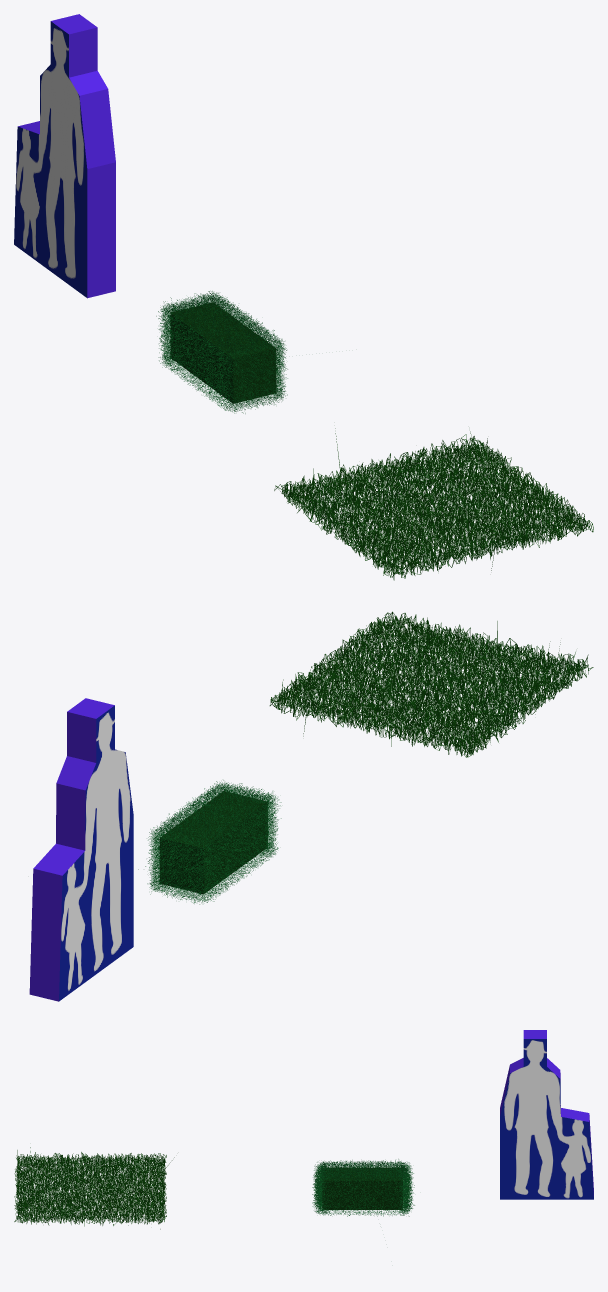
The model's file is その他.fbx.
The picture shows the model from 3 angles, top to bottom: view 1: azimuth 30°, elevation 25°; view 2: azimuth 150°, elevation 25°; view 3: azimuth 270°, elevation 25°; orthographic projection. The views are drawn at different scales.
Visible parts, largest first — view 1: Plane, ill-tsi_325-3, Cube, Cube.001; view 2: Plane, ill-tsi_325-3, Cube, Cube.001; view 3: ill-tsi_325-3, Plane, Cube, Cube.001.
Part boxes in pixels (<box>): Plane: <box>274,428,593,580</box>; ill-tsi_325-3: <box>14,14,115,298</box>; Cube: <box>156,291,287,413</box>; Cube.001: <box>170,302,276,403</box>; Plane: <box>269,611,593,757</box>; ill-tsi_325-3: <box>29,698,133,1001</box>; Cube: <box>138,780,281,904</box>; Cube.001: <box>159,791,267,894</box>; ill-tsi_325-3: <box>500,1030,593,1199</box>; Plane: <box>14,1147,174,1229</box>; Cube: <box>312,1159,414,1216</box>; Cube.001: <box>322,1167,402,1209</box>.
Size of the model in its own units: 114 by 116 by 327.
